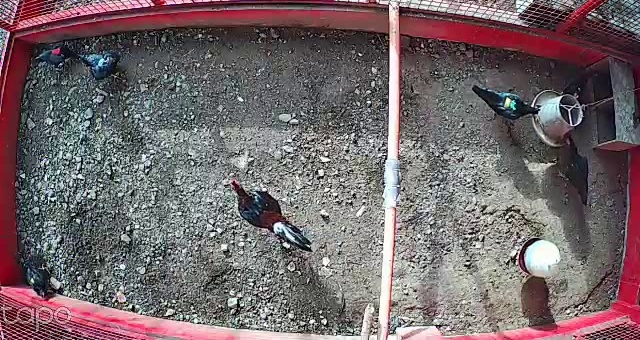Chicken: (549, 132, 595, 208), (470, 80, 541, 123), (61, 47, 131, 80), (17, 256, 57, 302), (556, 64, 601, 99), (32, 42, 77, 68)
Rooster: (222, 178, 315, 263)
Saddle_Color_Red: (52, 48, 61, 55)
Saddle_Color_Yellow: (29, 276, 37, 284)
Saddle_Color_YellowGreen: (504, 96, 517, 114)
